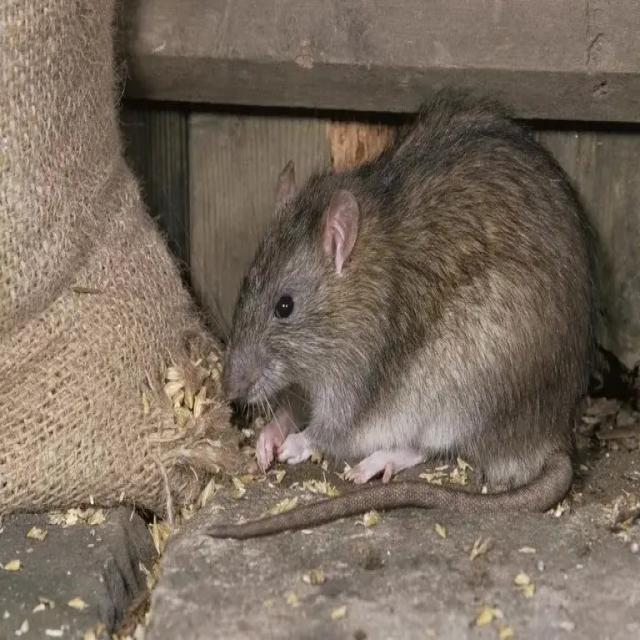rat: (218, 113, 602, 498)
